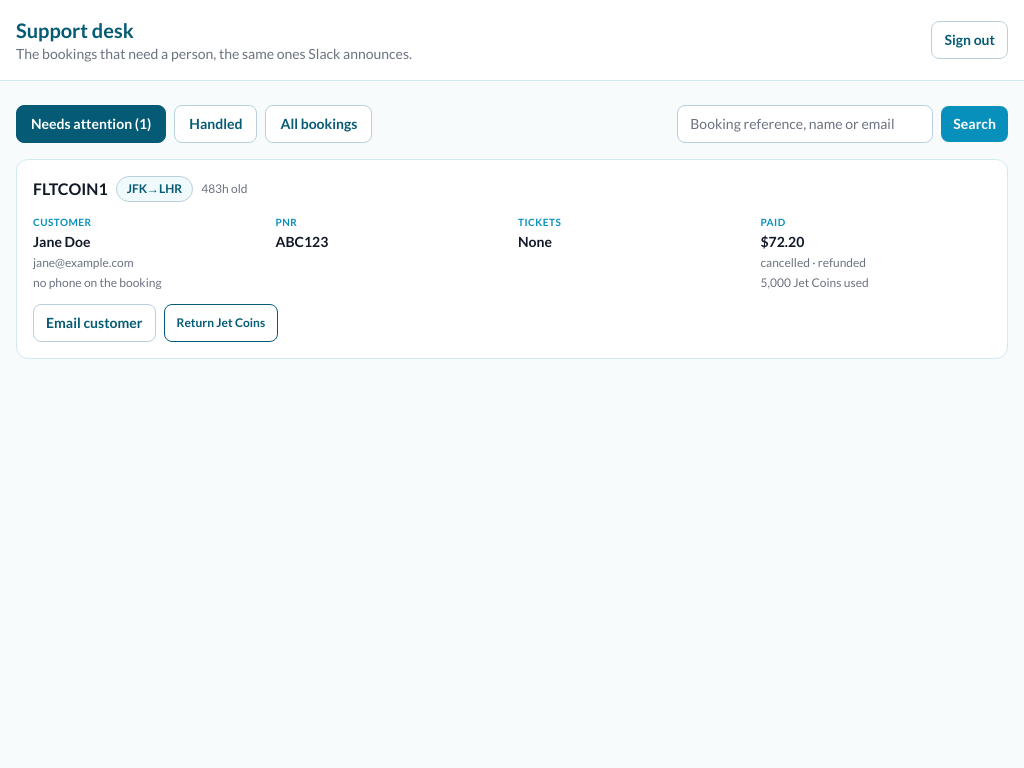
Test: Return Jet Coins › cannot be pressed twice while the request is in flight
The image size is (1024, 768).
Click the button "Return Jet Coins": (221, 323) [164, 304, 278, 342]
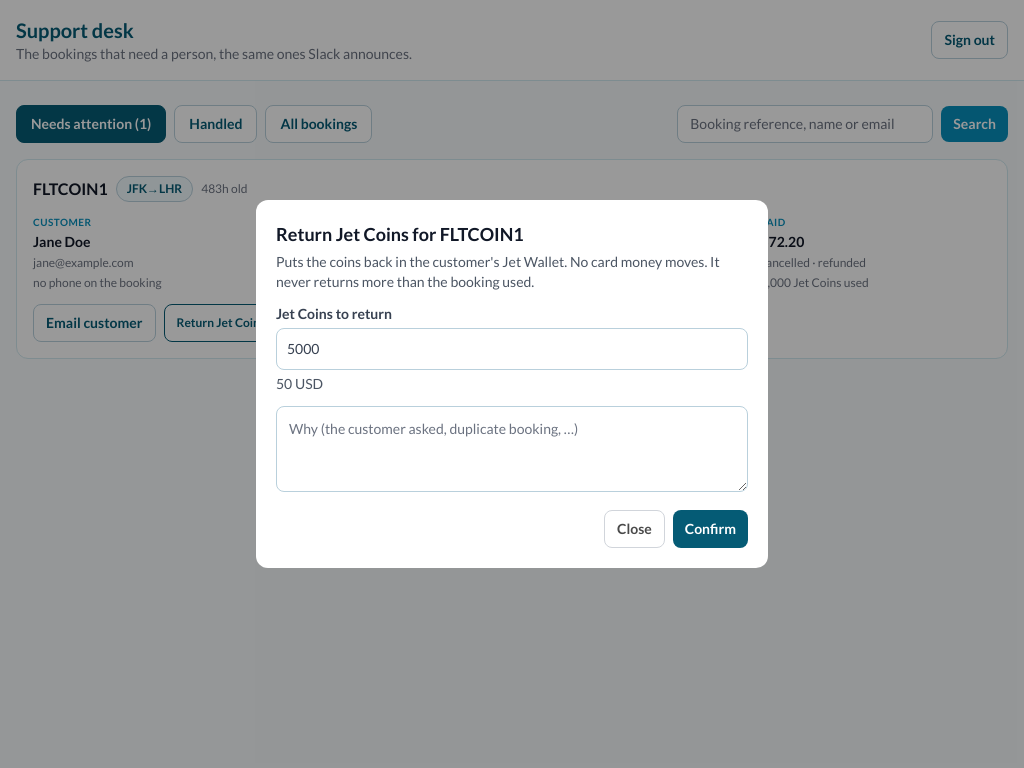
Click the button "Confirm": (710, 529) [673, 510, 748, 548]
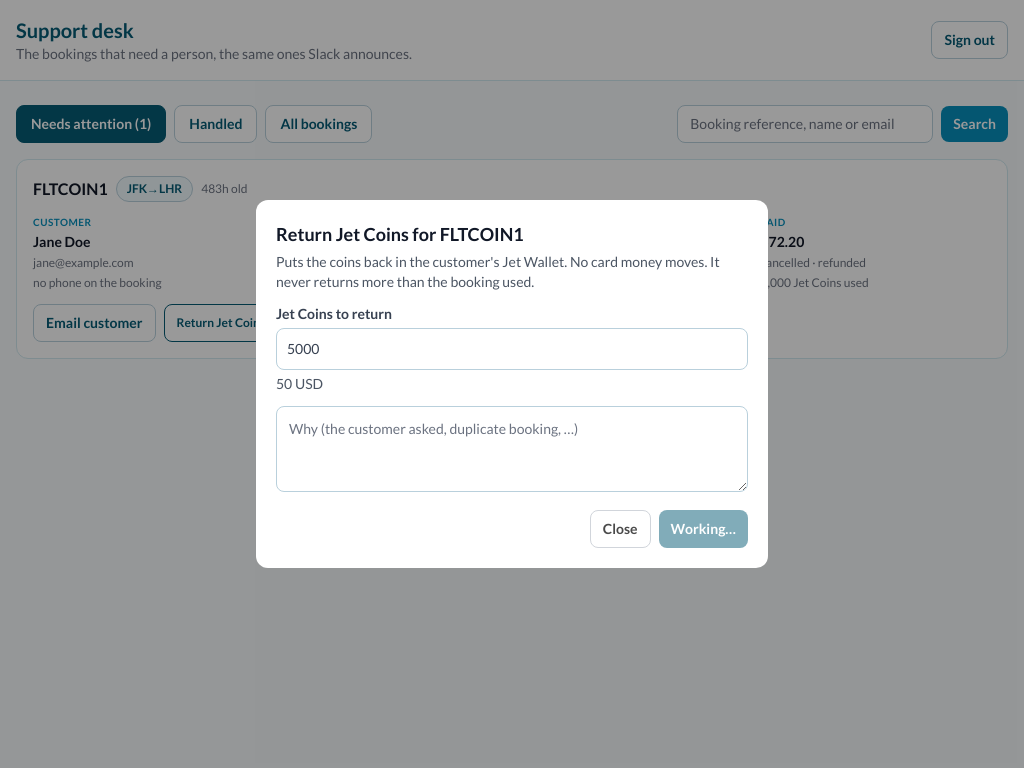
Expected: the button "Working…" is disabled
Click the button "Working…": (703, 529) [659, 510, 748, 548]
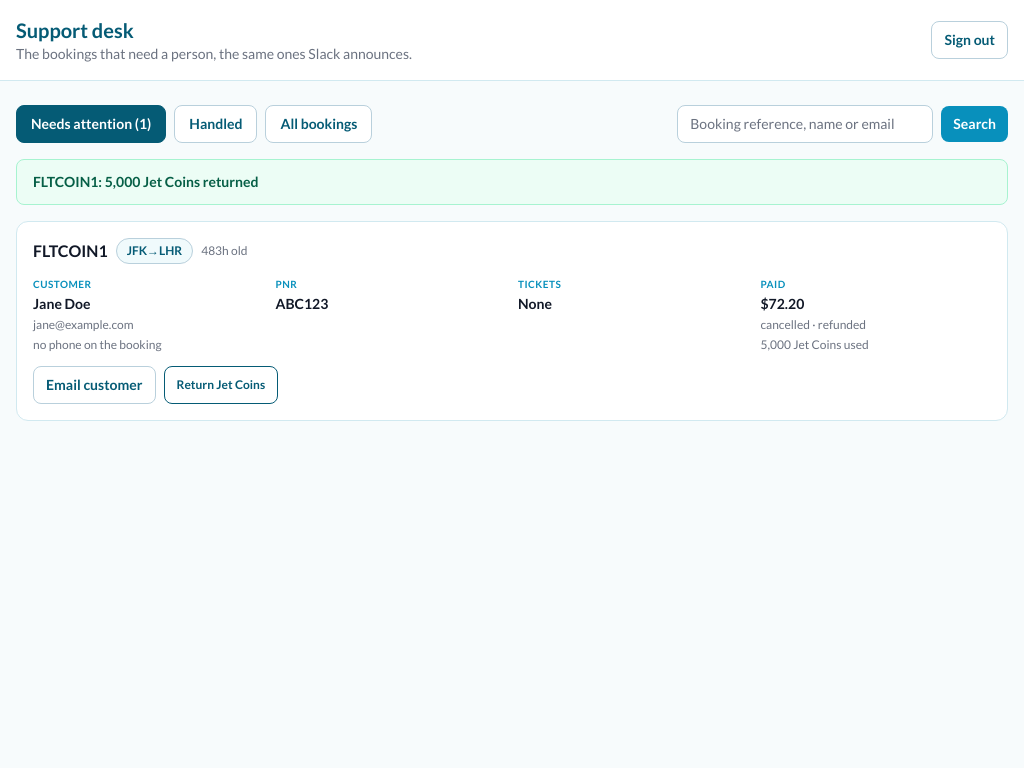
Expected: the dialog is gone
